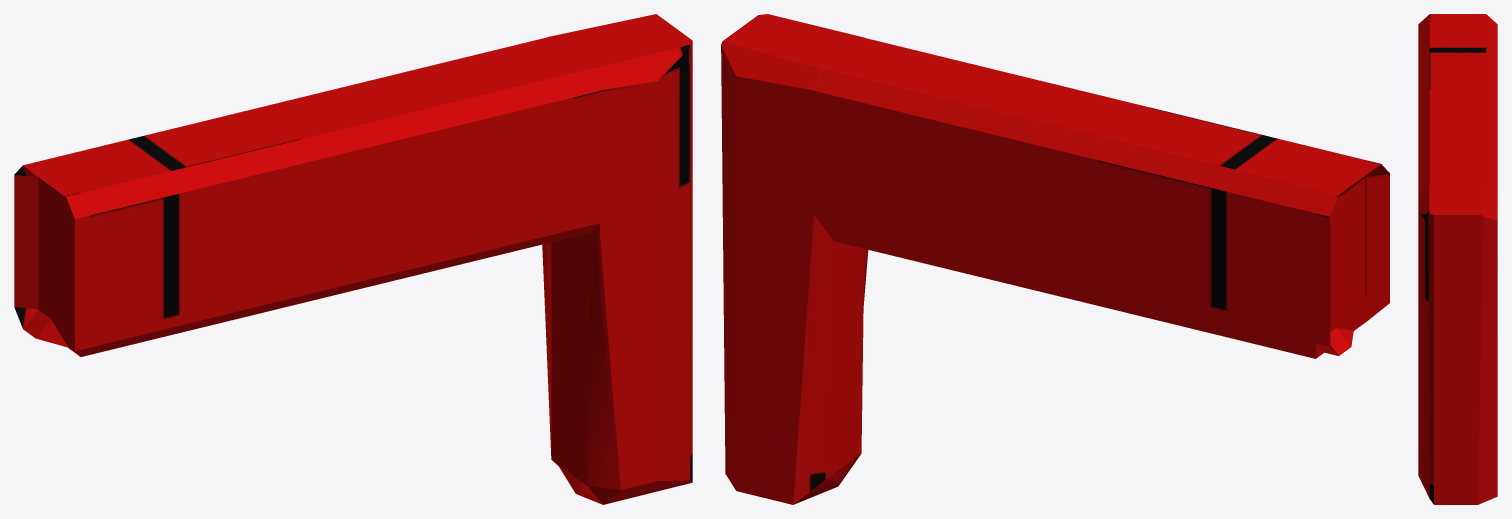
File: LisboaVivaFlipperGun.obj
3 views of the same model, side by side, from view 1: azimuth 30°, elevation 25°; view 2: azimuth 150°, elevation 25°; view 3: azimuth 270°, elevation 25° (orthographic). The views are drawn at different scales.
Parts seen in each view (by area): view 1: Cube_0, Cube_1; view 2: Cube_1, Cube_0; view 3: Cube_0, Cube_1.
Boxes of the visible parts, <box> form: Cube_0: <box>14,37,690,504</box>; Cube_1: <box>14,14,692,504</box>; Cube_1: <box>721,14,1389,504</box>; Cube_0: <box>721,38,1389,504</box>; Cube_0: <box>1418,14,1497,504</box>; Cube_1: <box>1418,182,1497,504</box>.
Bounding box in the file's own units: 1.2 × 0.8044 × 0.2.
Materials: 1 (1 with a texture image).
